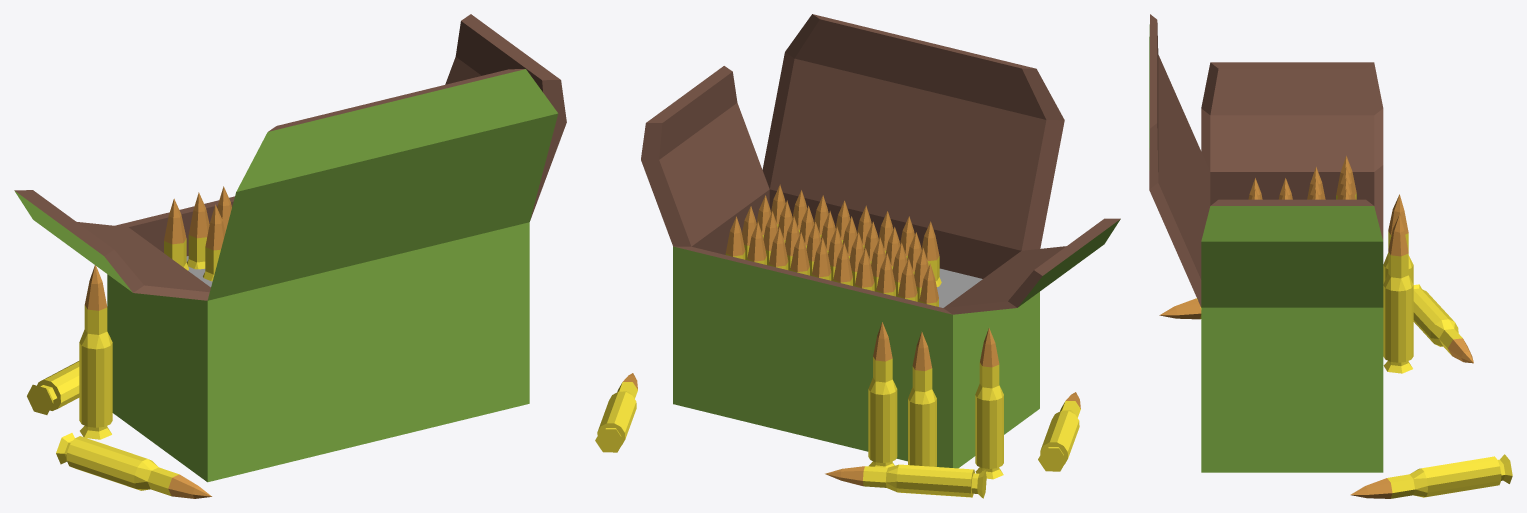
The model's file is box-of-bullets-by-mason-buqhG_C-fWK.glb.
3 views of the same model, side by side, from view 1: azimuth 30°, elevation 25°; view 2: azimuth 150°, elevation 25°; view 3: azimuth 270°, elevation 25° (orthographic). The views are drawn at different scales.
Parts seen in each view (by area): view 1: Node; view 2: Node; view 3: Node.
Boxes of the visible parts, bbox=[...] form: Node: bbox=[14, 14, 566, 498]; Node: bbox=[595, 14, 1120, 498]; Node: bbox=[1149, 14, 1512, 498].
Size of the model in its own units: 0.3913 by 0.2864 by 0.2795.
